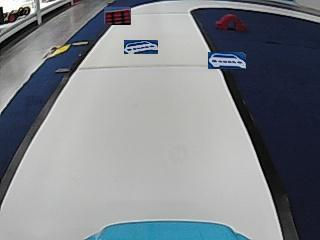bridge: (216, 14, 245, 30)
